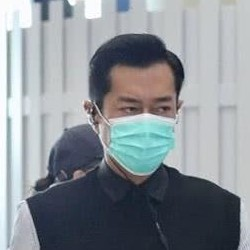mask: (92, 105, 181, 178)
